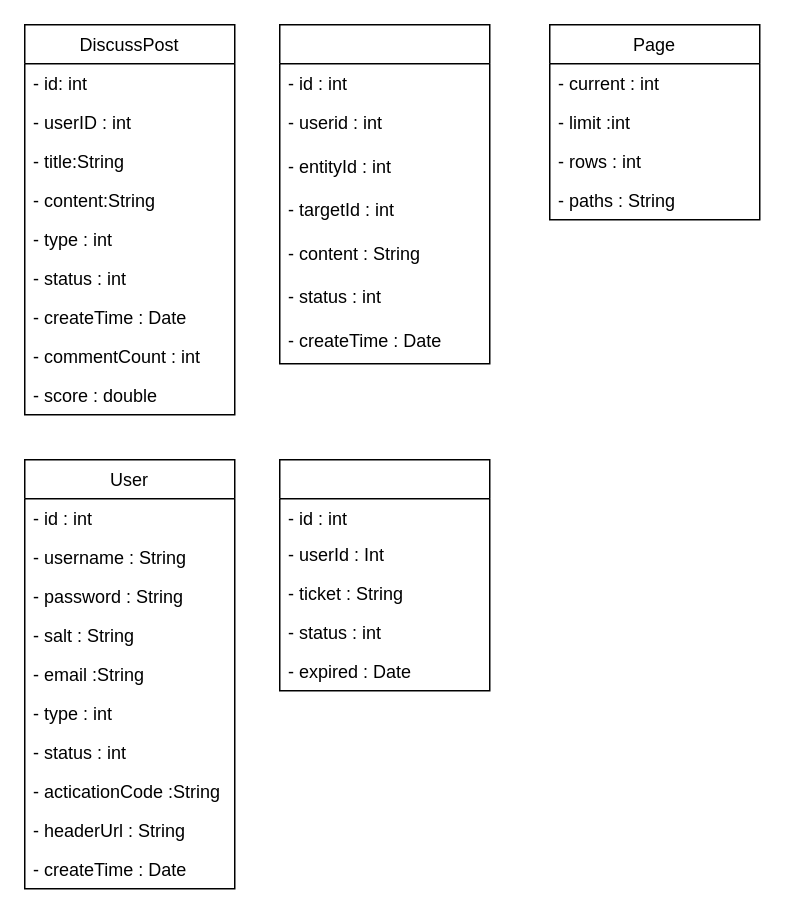
The diagram is 785 pixels wide and 914 high, and some of its shapes have lost their labels. Each missing label, with the box of its shape:
Comment: (278, 23, 490, 364)
LoginTicket: (278, 458, 490, 691)
